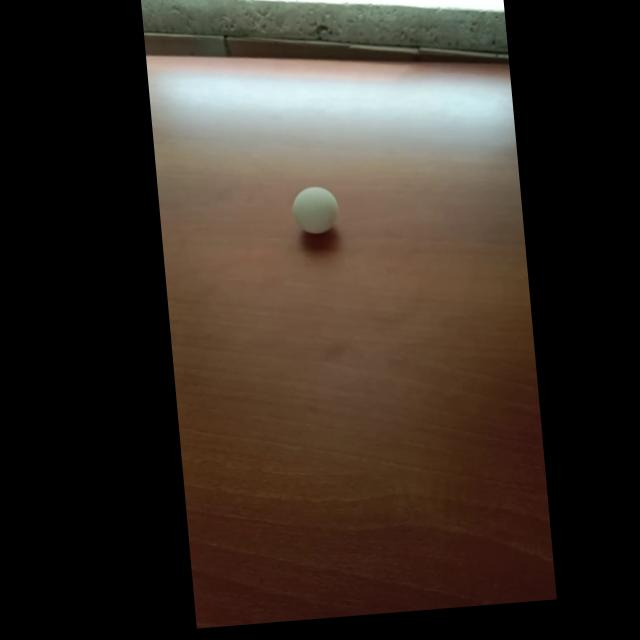white ball: (290, 184, 340, 236)
